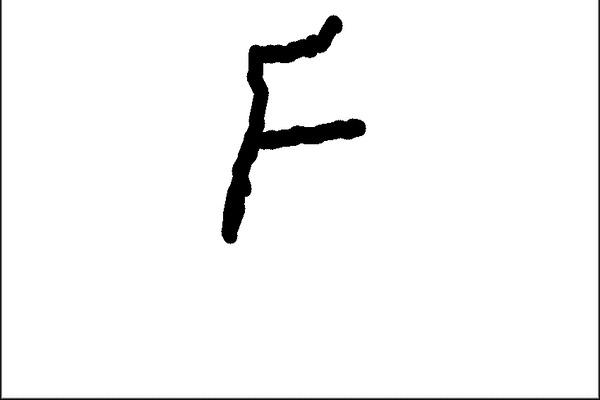F: (212, 10, 370, 249)
